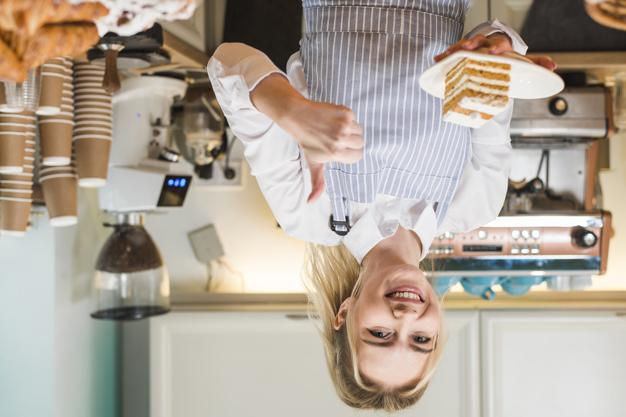thumbsdown: (306, 109, 364, 204)
